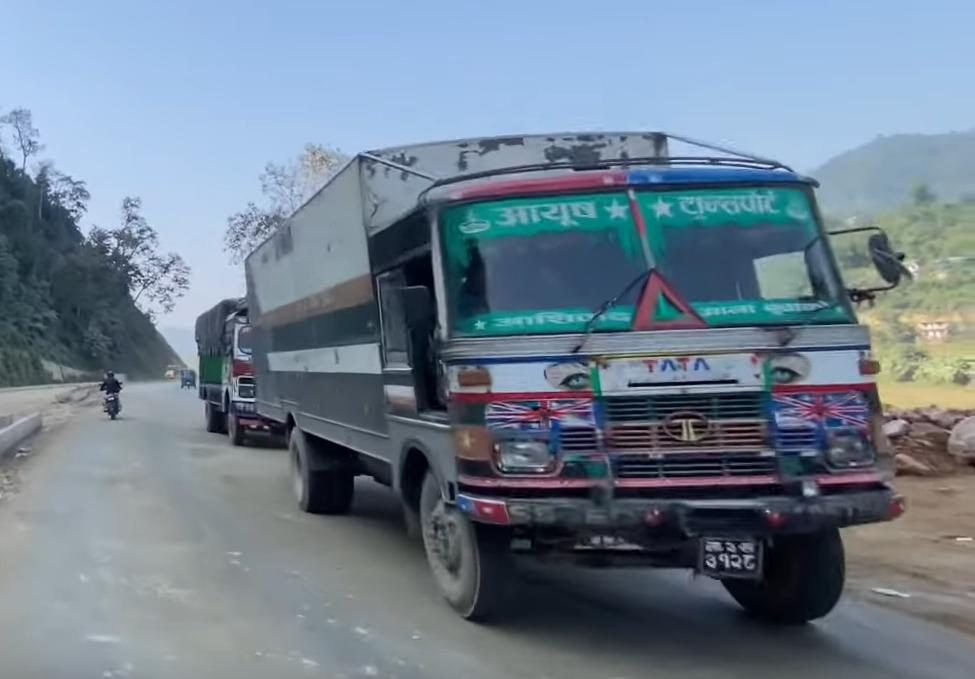auto_rickshaw: (179, 366, 197, 392)
bike: (96, 378, 124, 423)
truck: (241, 129, 914, 624), (194, 295, 289, 446)
